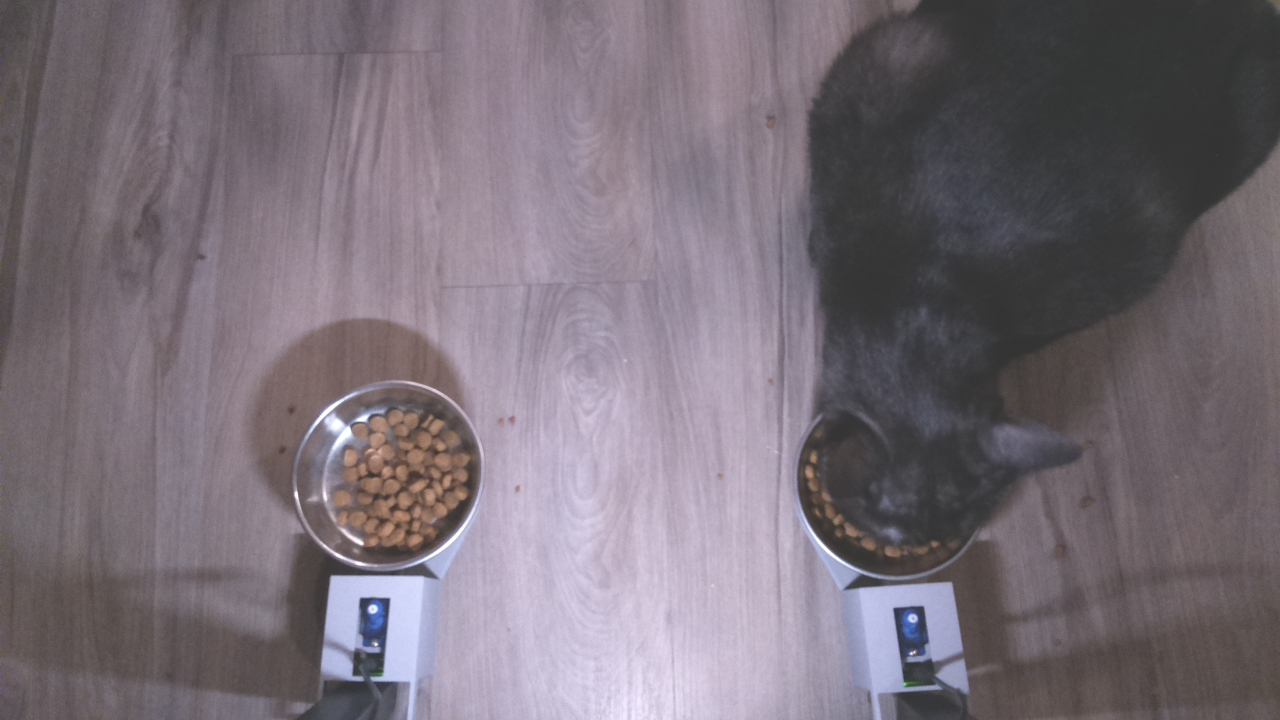open_bowl: (284, 372, 490, 577)
saki_eating: (782, 328, 1105, 590)
